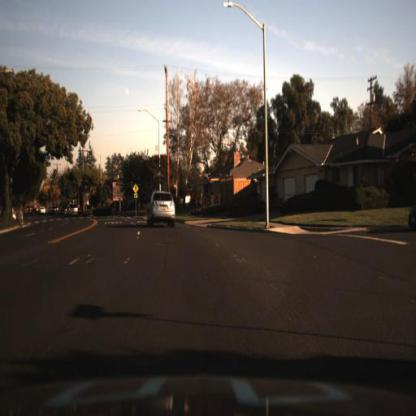car: (146, 191, 177, 231), (67, 204, 81, 217)
